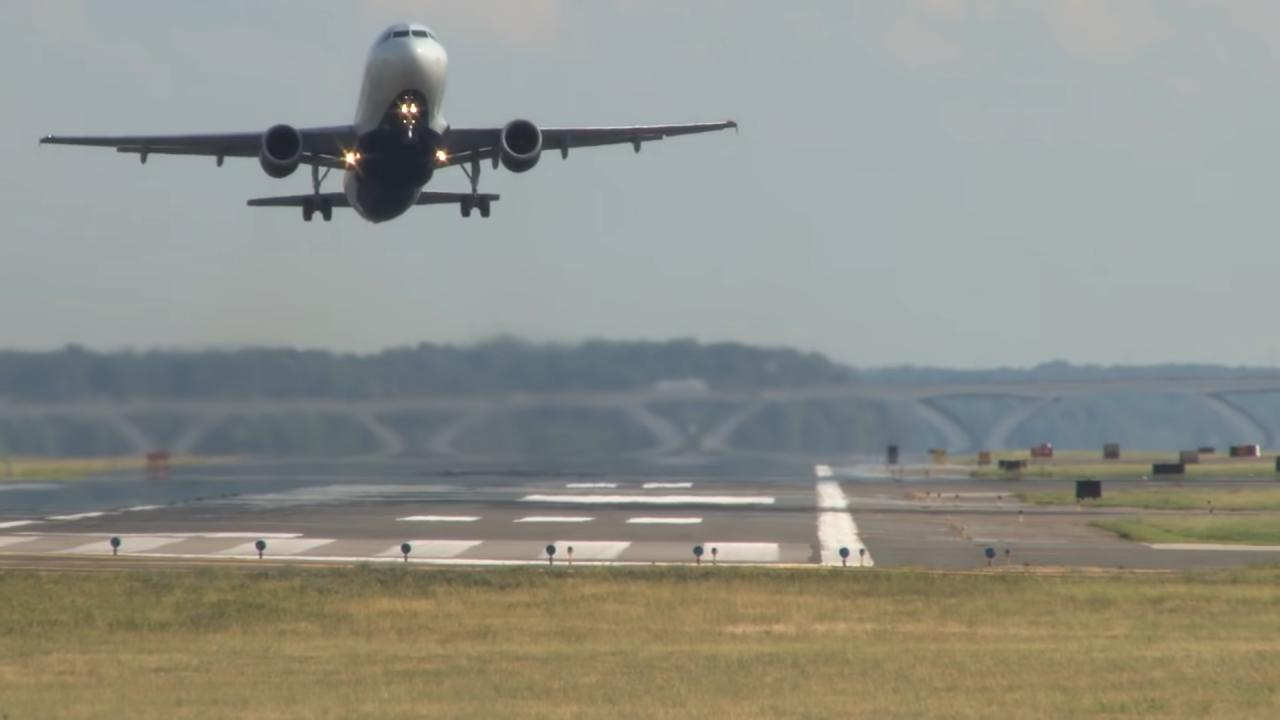Airplane: (30, 12, 756, 233)
